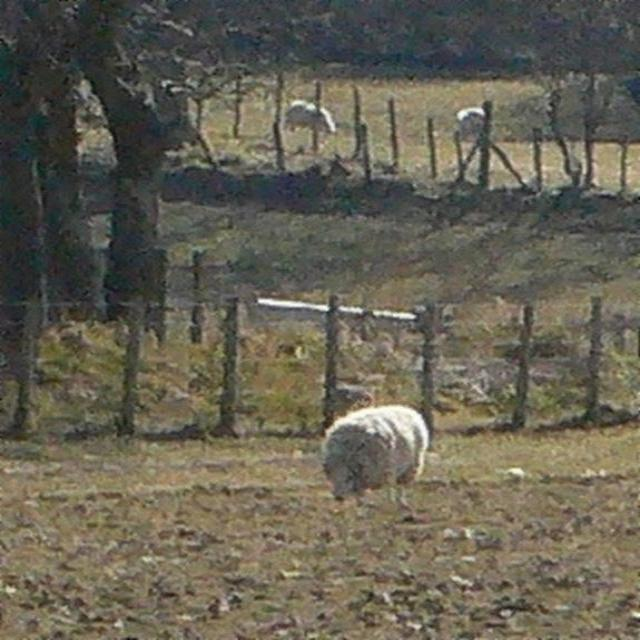Sheep: (322, 406, 424, 503), (283, 101, 337, 138)
